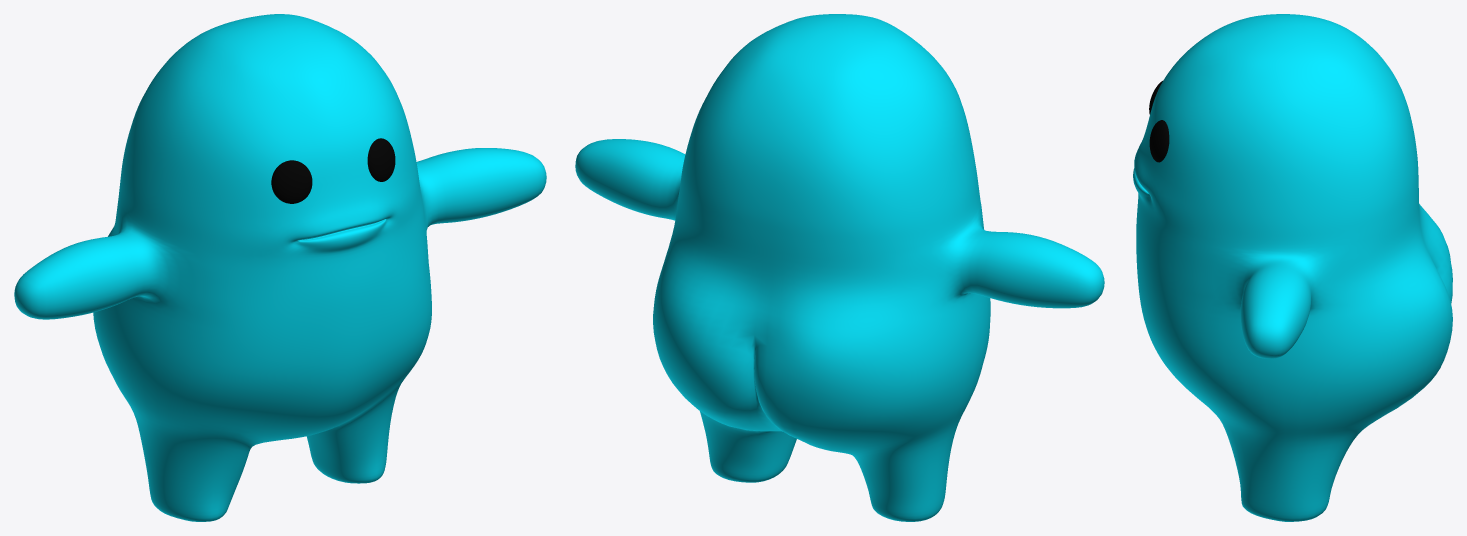
File: CharacterModel01.fbx
3 views of the same model, side by side, from view 1: azimuth 30°, elevation 25°; view 2: azimuth 150°, elevation 25°; view 3: azimuth 270°, elevation 25° (orthographic). The views are drawn at different scales.
Visible parts, largest first — view 1: character, eye01, eye02; view 2: character; view 3: character, eye02.
Part boxes in pixels (bbox=[...]): character: bbox=[14, 14, 546, 521]; eye01: bbox=[271, 160, 312, 203]; eye02: bbox=[367, 138, 395, 181]; character: bbox=[575, 14, 1104, 521]; character: bbox=[1133, 14, 1452, 521]; eye02: bbox=[1149, 120, 1169, 162].
Bounding box in the file's own units: 101 × 84.52 × 54.96.
